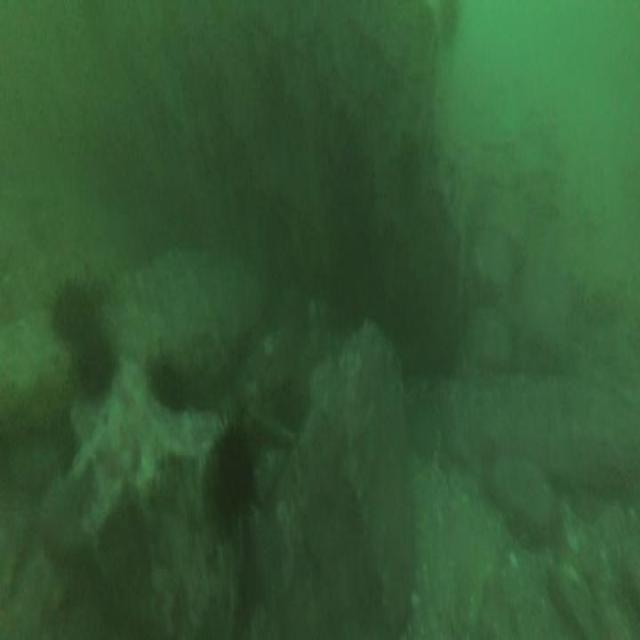echinus: (210, 433, 252, 515), (76, 333, 114, 395), (52, 280, 90, 340), (150, 358, 186, 408)
